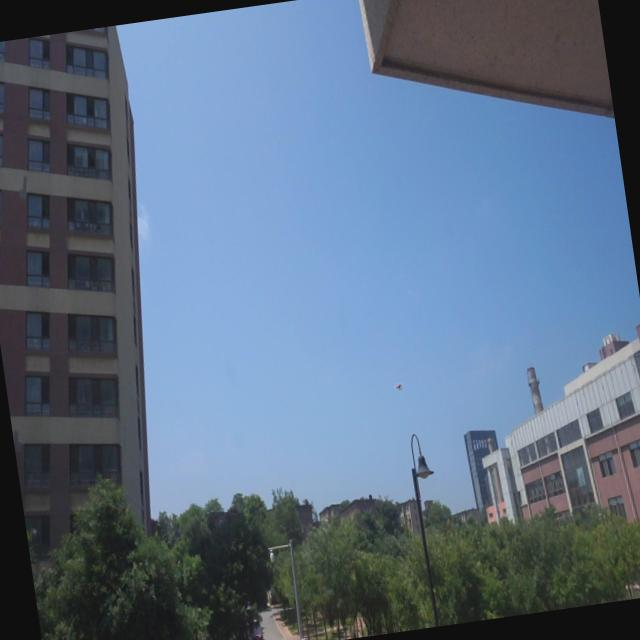drone: (392, 377, 408, 397)
